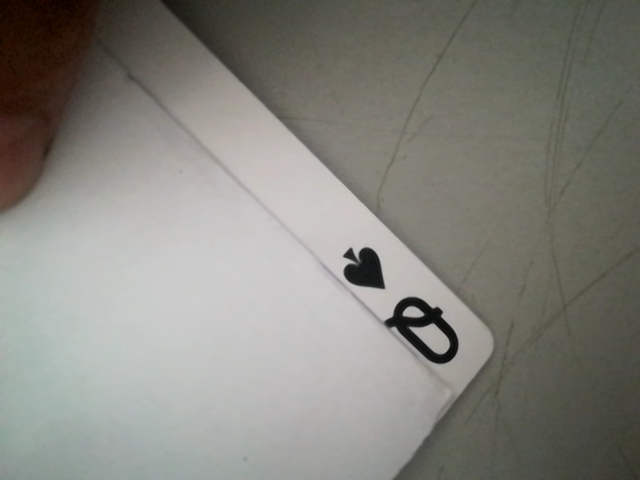ht q: (323, 234, 479, 380)
